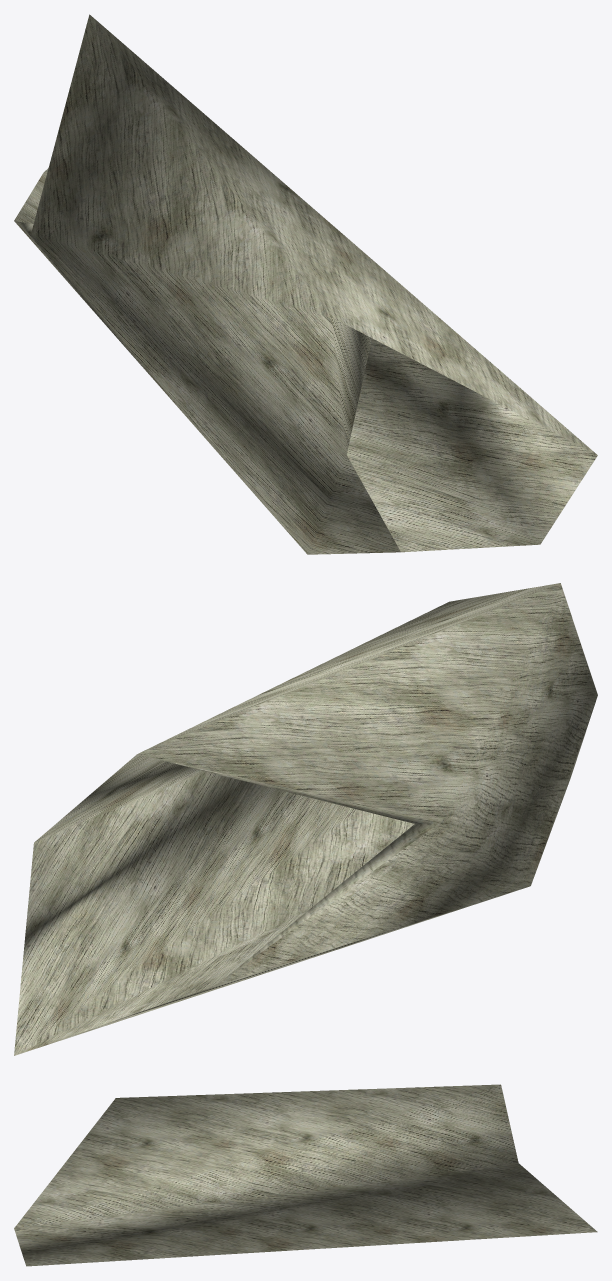
Rendered from shor_driftwood_massassi_hollow_l3.fbx.
3 views of the same model, one above another, from view 1: azimuth 30°, elevation 25°; view 2: azimuth 150°, elevation 25°; view 3: azimuth 270°, elevation 25° (orthographic). The views are drawn at different scales.
Parts seen in each view (by area): view 1: mesh_node; view 2: mesh_node; view 3: mesh_node.
Part boxes in pixels (x1=…): mesh_node: x1=14, y1=14, x2=597, y2=554; mesh_node: x1=14, y1=583, x2=597, y2=1055; mesh_node: x1=14, y1=1084, x2=597, y2=1266.
Size of the model in its own units: 5.14 by 5.5 by 15.1.
